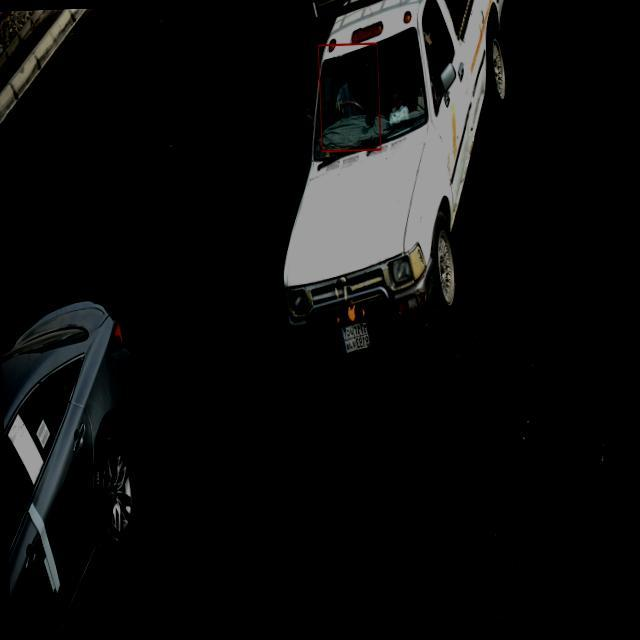windshield: (312, 26, 429, 162)
